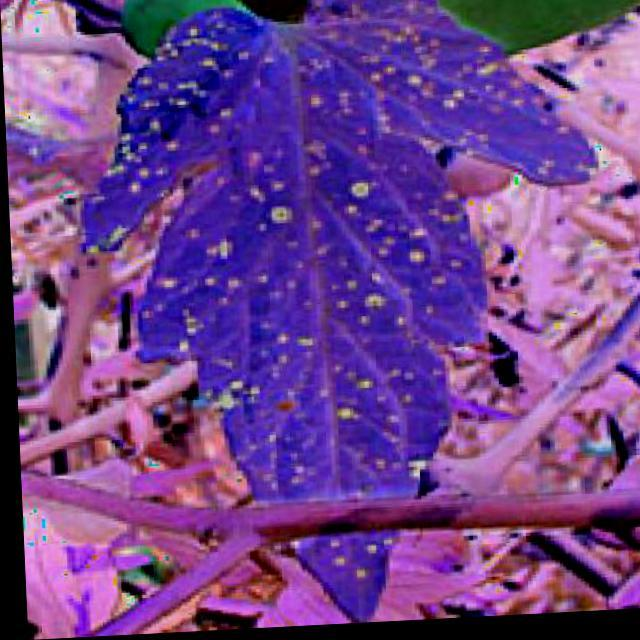Tomato Septoria spot leaf: (59, 0, 620, 637)
